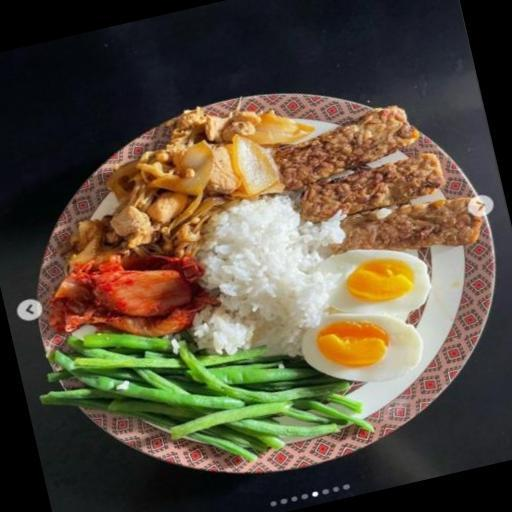buncis_rebus: (112, 342, 330, 498)
nasi_putih: (182, 184, 342, 352)
tempe_goreng: (266, 102, 426, 188), (298, 151, 456, 228)
